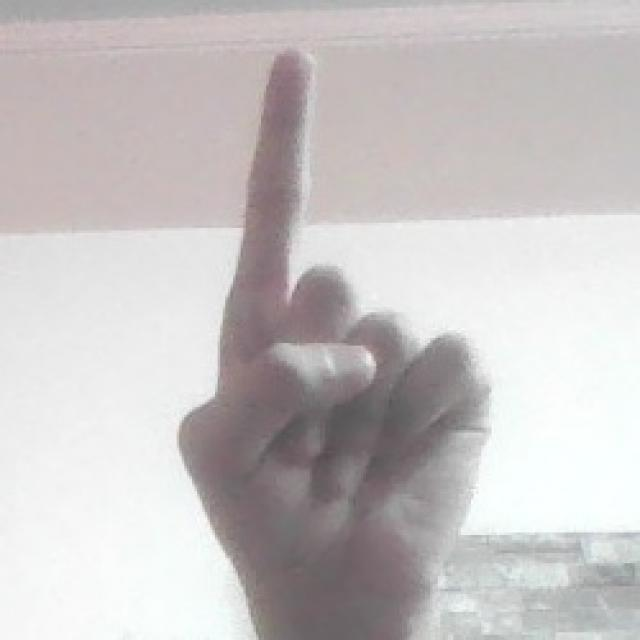Numeric-1: (178, 44, 492, 613)
